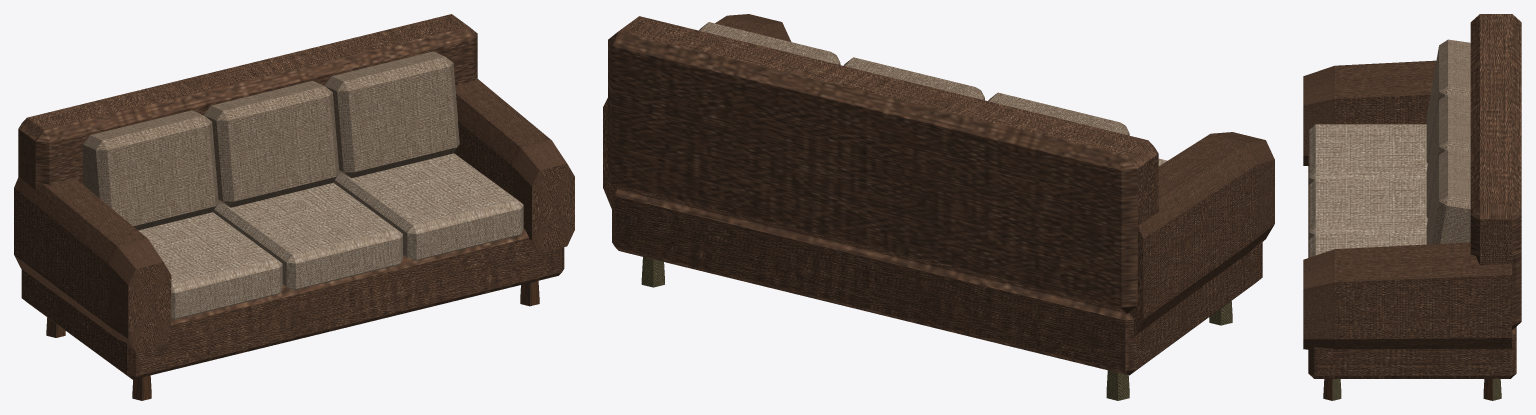
The model's file is couch.glb.
The picture shows the model from 3 angles, left to right: view 1: azimuth 30°, elevation 25°; view 2: azimuth 150°, elevation 25°; view 3: azimuth 270°, elevation 25°; orthographic projection. The views are drawn at different scales.
Visible parts, largest first — view 1: core_couch; view 2: core_couch; view 3: core_couch.
Boxes of the visible parts, x1,y1,x2,y2 form: core_couch: (14, 14, 574, 400); core_couch: (603, 14, 1274, 400); core_couch: (1303, 14, 1521, 400).
Size of the model in its own units: 2 by 0.9 by 0.9.
Materials: 1 (1 with a texture image).
